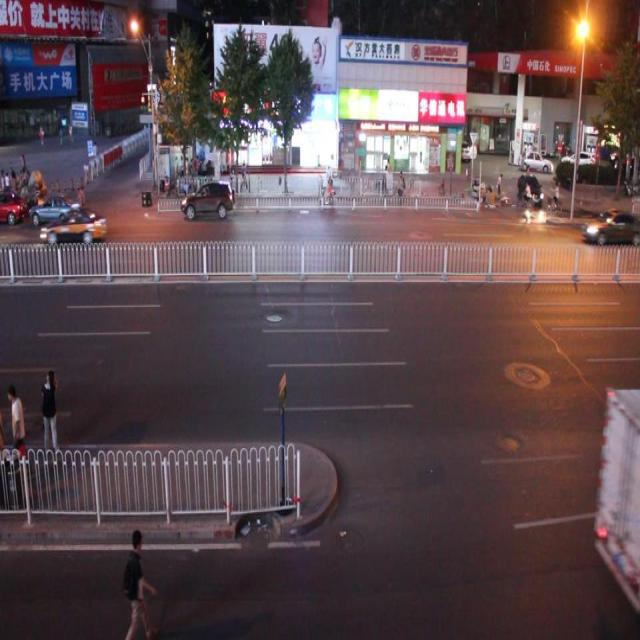car: (40, 203, 106, 247), (181, 178, 234, 226), (580, 206, 640, 246), (27, 193, 82, 231)
